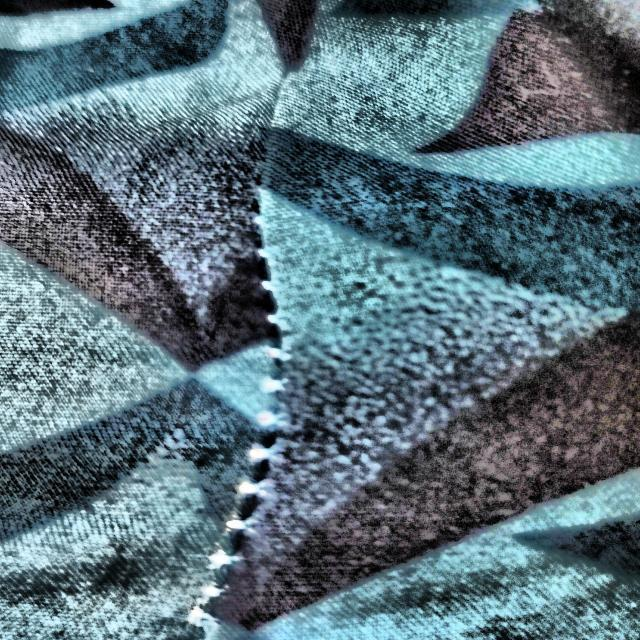gray stitch: (185, 184, 305, 616)
